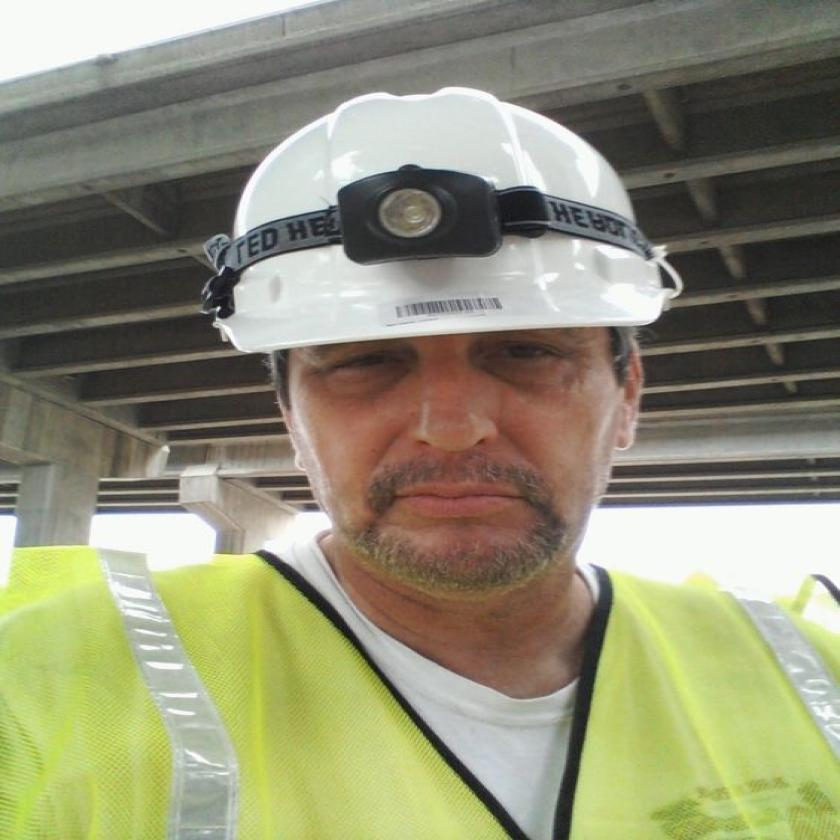Con_casco: (214, 40, 694, 602)
